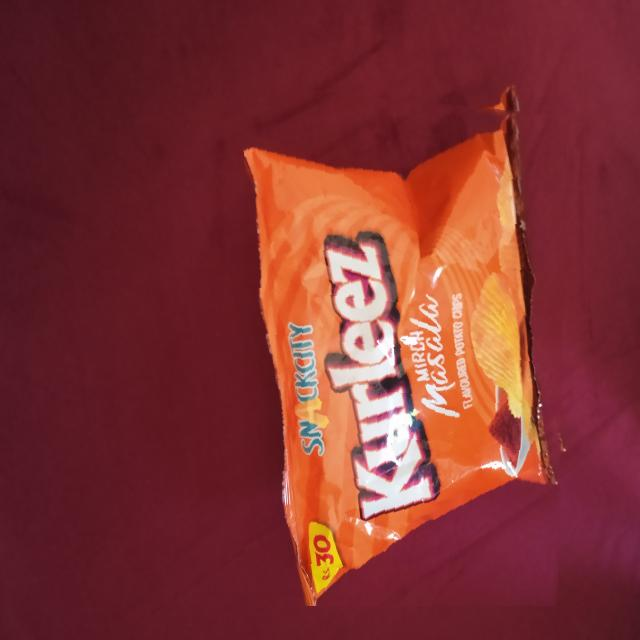Plastic: (244, 83, 568, 606)
